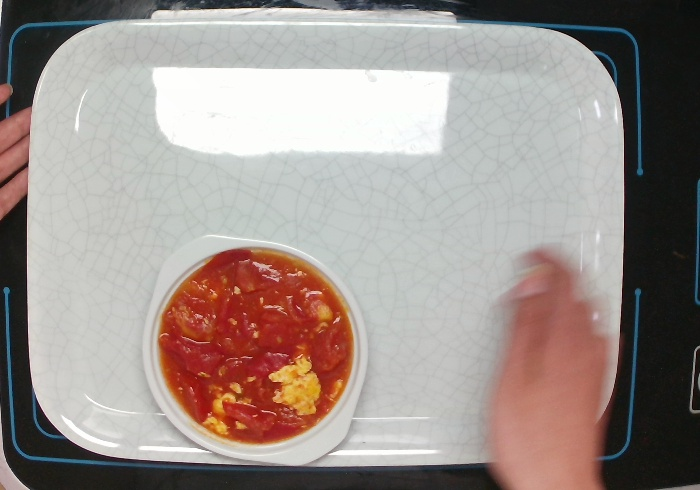JYsf-Shuang_Er_Pan: (138, 230, 374, 470)
